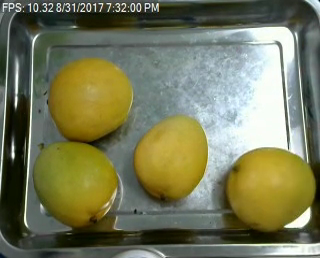Mango: (226, 146, 315, 231), (33, 142, 119, 227), (49, 58, 131, 141), (133, 115, 207, 199)
